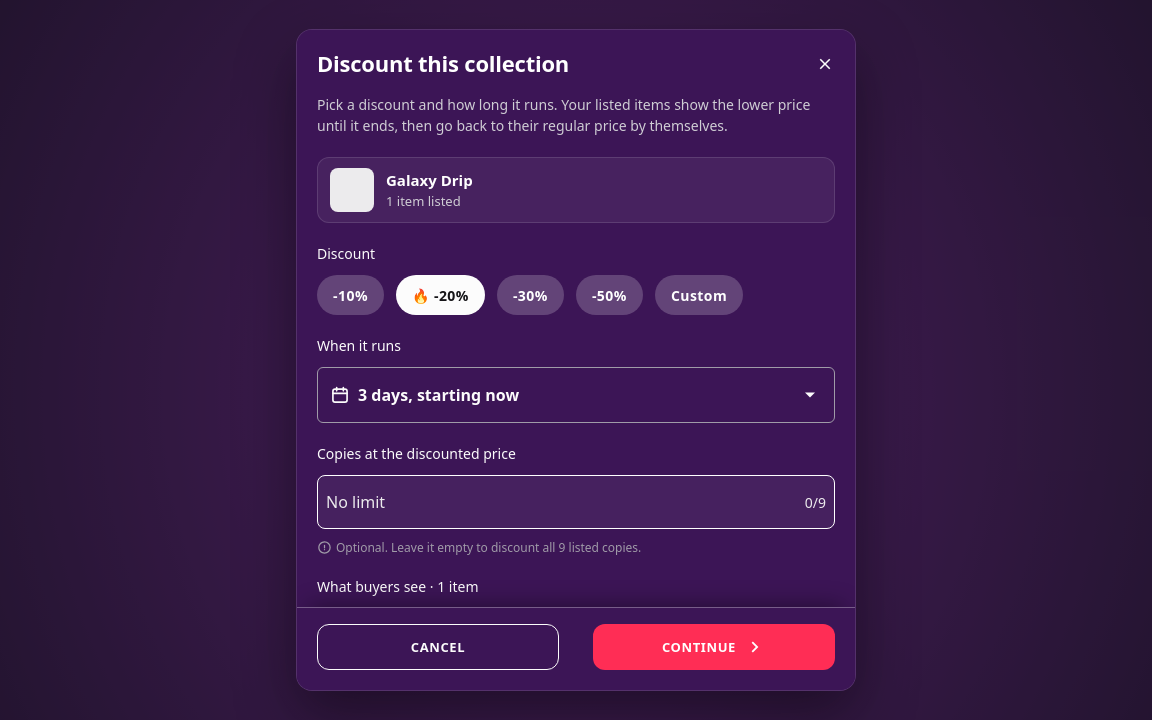
Test case: when a creator discounts a collection from the builder › should offer the Shop presets, preview what buyers pay and sign the reviewed terms
Check: the element with test id "creator-sale-collections" shows "Galaxy Drip", box [386,170,473,190]
What coordinates should you click on to do the following:
click the button with test id "creator-sale-pct-30"
I would click on:
 (530, 295)
Its box is [497,275,564,315].
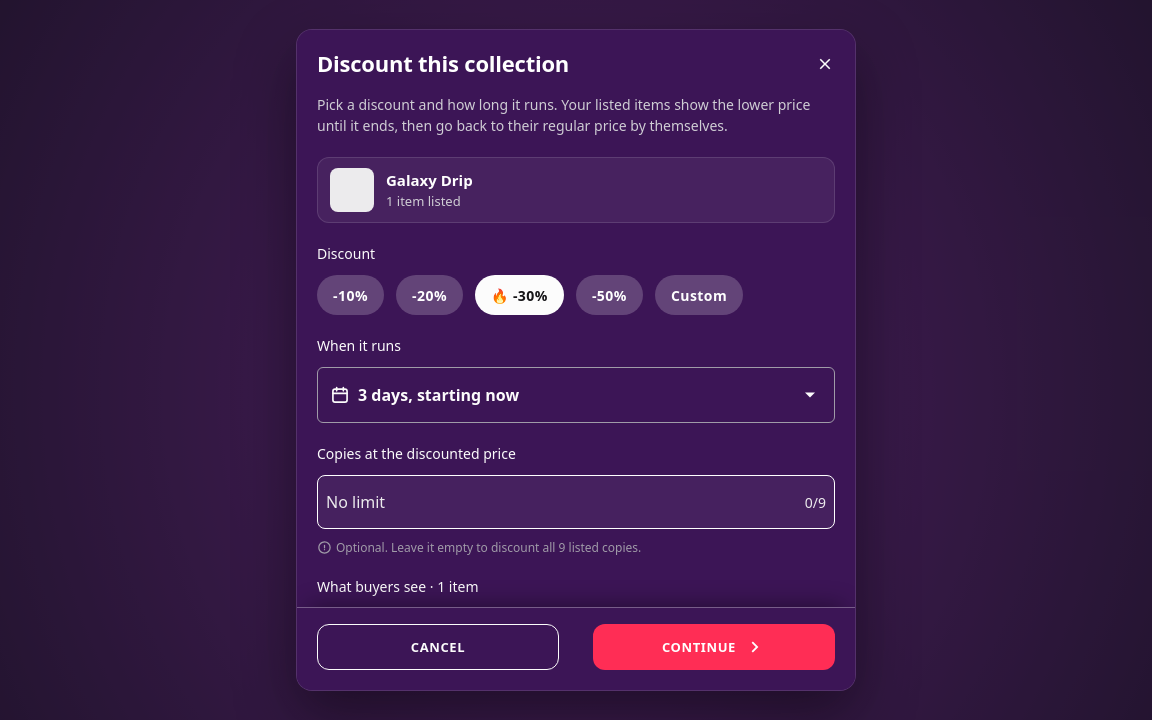
What coordinates should you click on to do the following:
click the button with test id "creator-sale-continue"
I would click on:
 (714, 647)
Its box is [593,624,835,670].
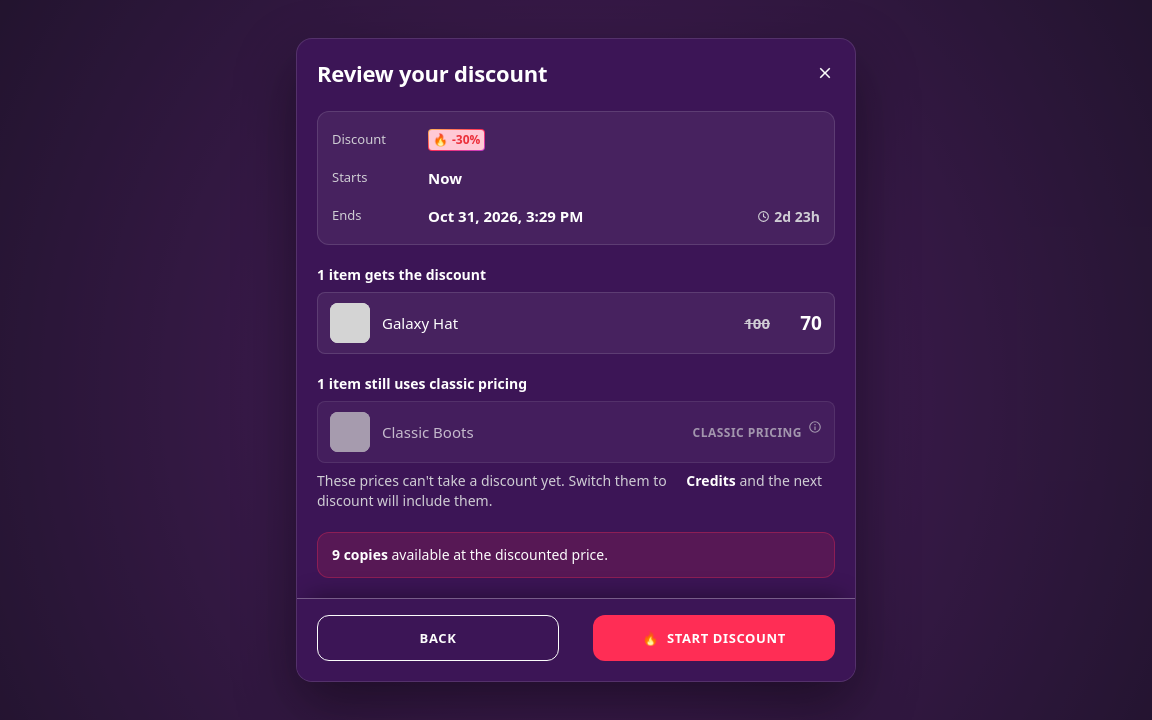
Check: the list with test id "creator-sale-review-items" shows "Galaxy Hat", box [382,313,458,333]
Check: the list with test id "creator-sale-review-classic" shows "Classic Boots", box [382,422,474,442]
What coordinates should you click on to do the following:
click the button with test id "creator-sale-submit"
I would click on:
 (714, 638)
Its box is [593,615,835,661].
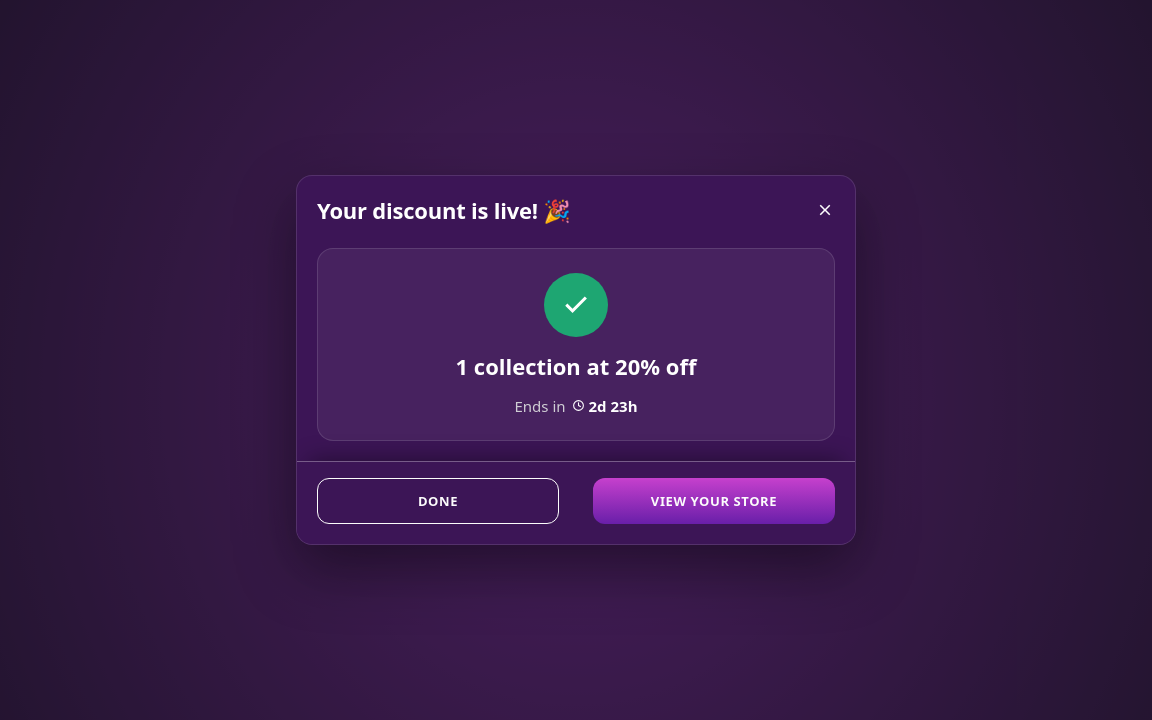
Check: the dialog with test id "creator-sale-success" is shown, box [296,175,856,545]
